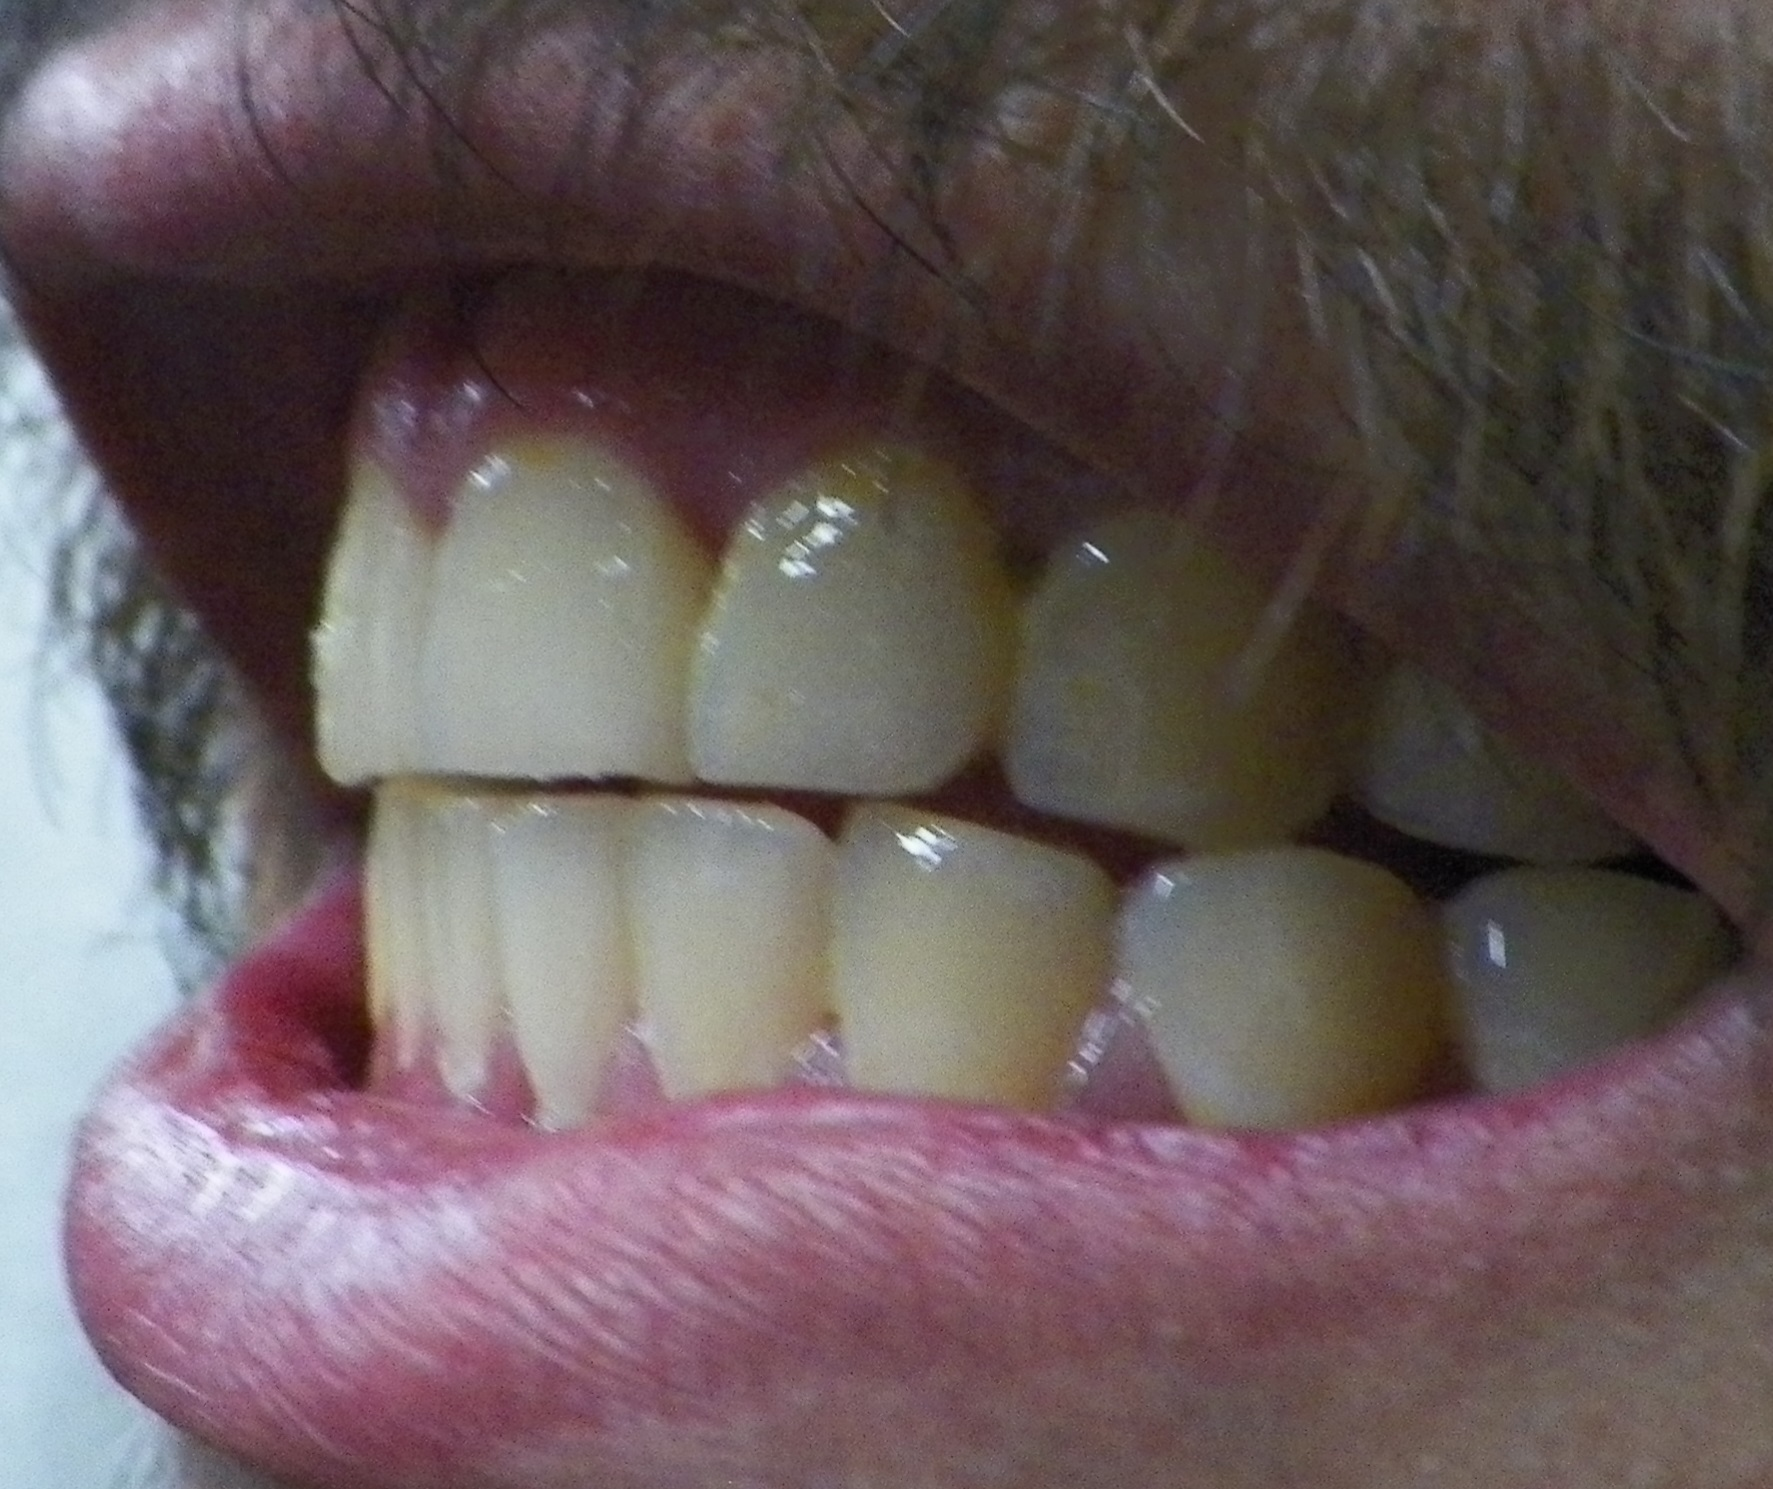boca: (307, 445, 1687, 1117)
